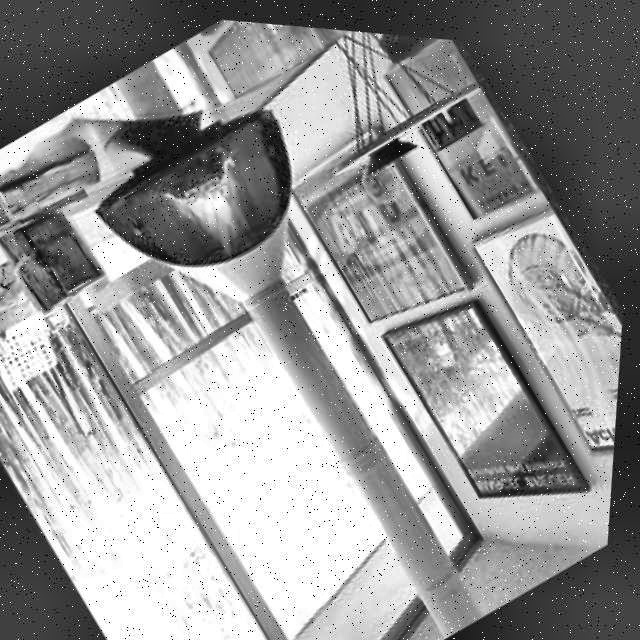Fire: (154, 133, 278, 265)
